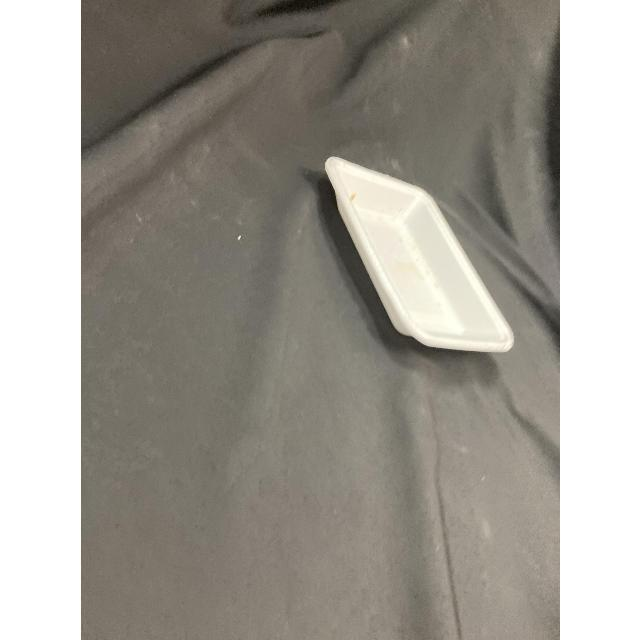Recipiente plastico: (325, 158, 512, 352)
